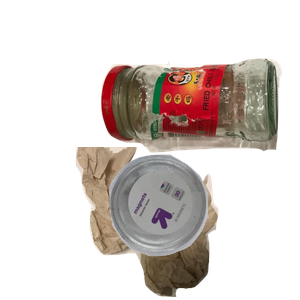glass: (98, 56, 300, 201)
metal: (105, 63, 300, 192)
plastic: (107, 152, 300, 300)
trash: (73, 147, 300, 300)
